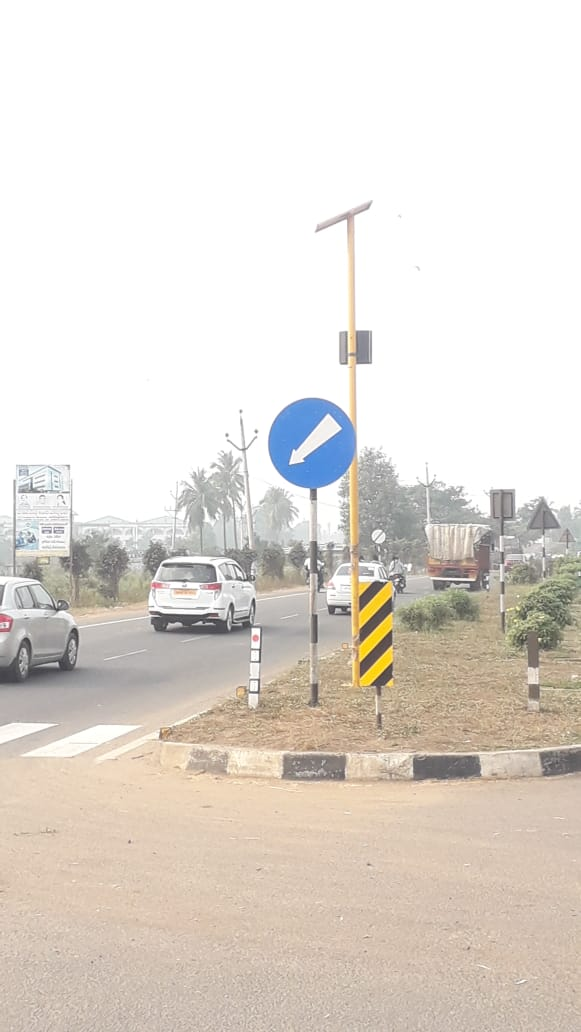go left: (257, 385, 389, 535)
